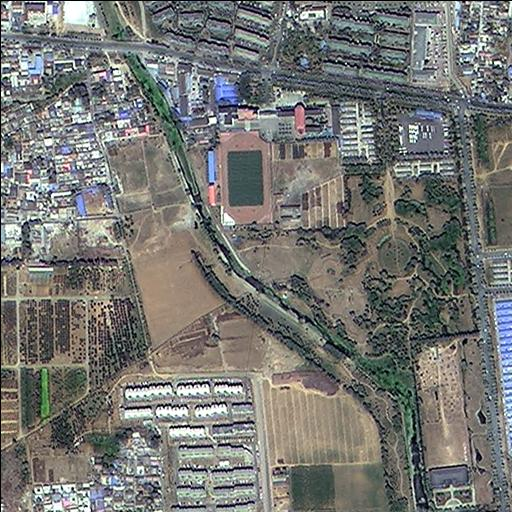school: (207, 101, 341, 227)
